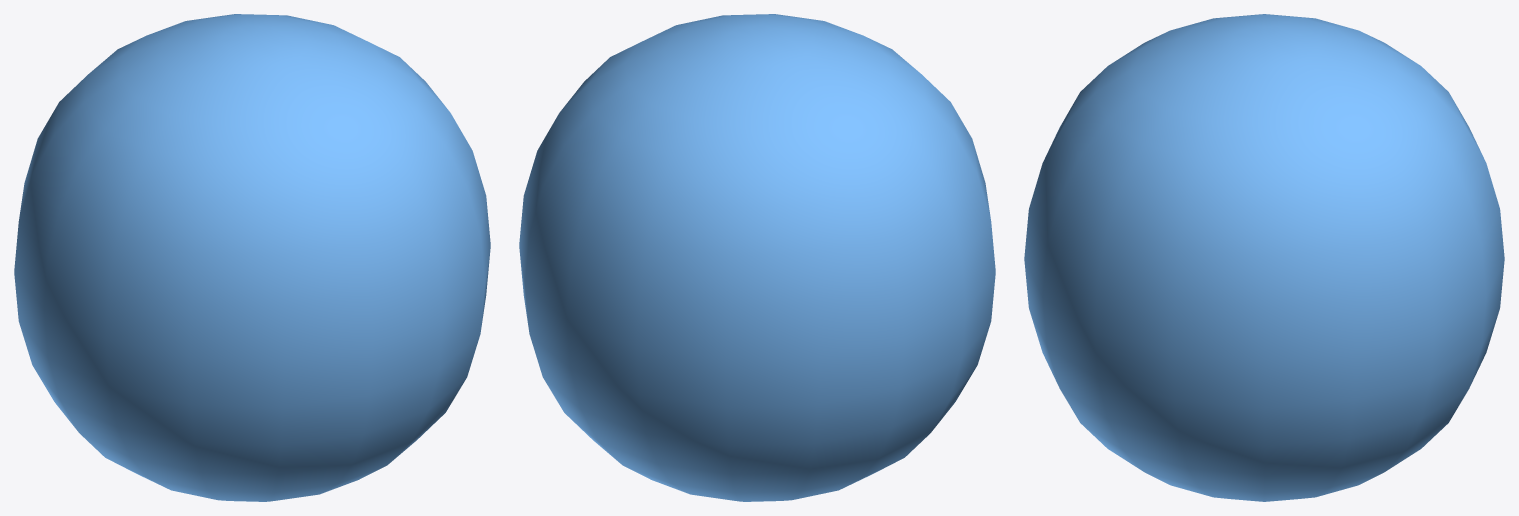
File: Ice Cream Blue.fbx
The picture shows the model from 3 angles, left to right: view 1: azimuth 30°, elevation 25°; view 2: azimuth 150°, elevation 25°; view 3: azimuth 270°, elevation 25°; orthographic projection.
Visible parts, largest first — view 1: Ice Cream Blue; view 2: Ice Cream Blue; view 3: Ice Cream Blue.
Part boxes in pixels (x1=…): Ice Cream Blue: x1=14, y1=14, x2=490, y2=501; Ice Cream Blue: x1=519, y1=14, x2=995, y2=501; Ice Cream Blue: x1=1024, y1=14, x2=1504, y2=501.
Size of the model in its own units: 0.4671 by 0.4738 by 0.4671.
